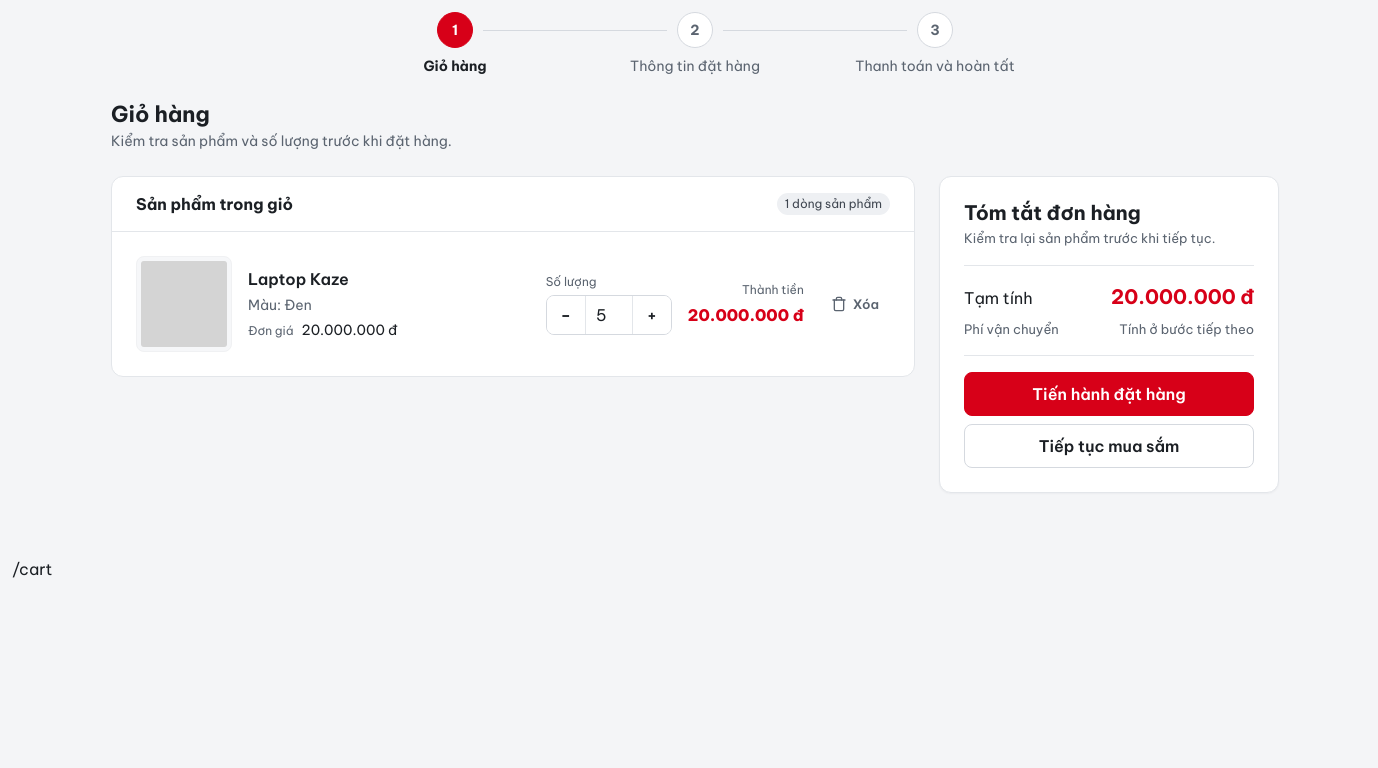
Scenario: CartPage: lỗi CART_LIMIT_EXCEEDED › hiện thông báo của API cạnh dòng và đưa ô số lượng về giá trị trong giỏ
This screenshot has width=1378, height=768.
What coordinates should you click on to do the following:
click the button "+"
I would click on:
 (652, 315)
Its box is 633,296 -> 671,334.
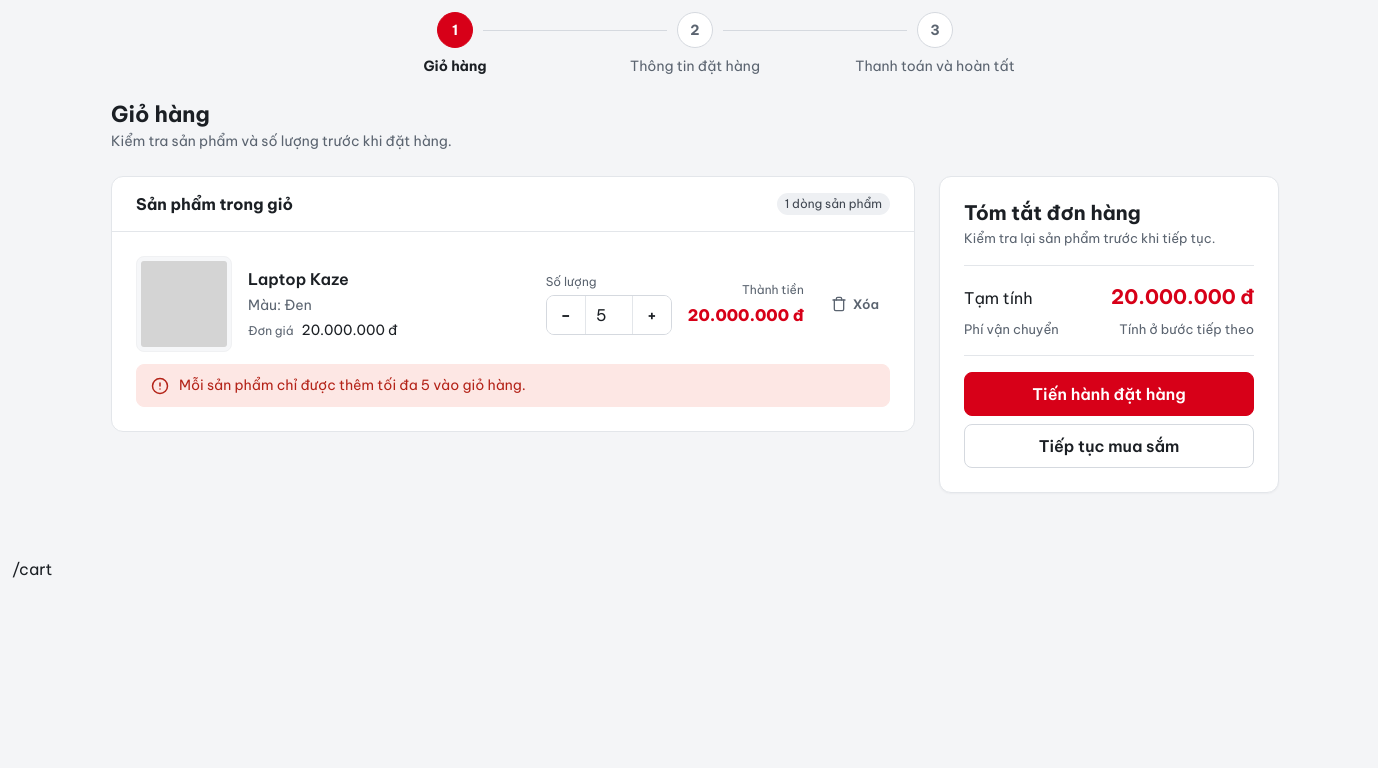
Check: the number field holds "5", box 585,296 -> 633,334
Check: the message "Mỗi sản phẩm chỉ được thêm tối đa 5 vào giỏ hàng." is shown, box 136,364 -> 890,407
